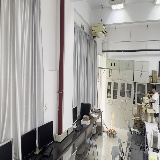fire: (109, 112, 114, 133)
